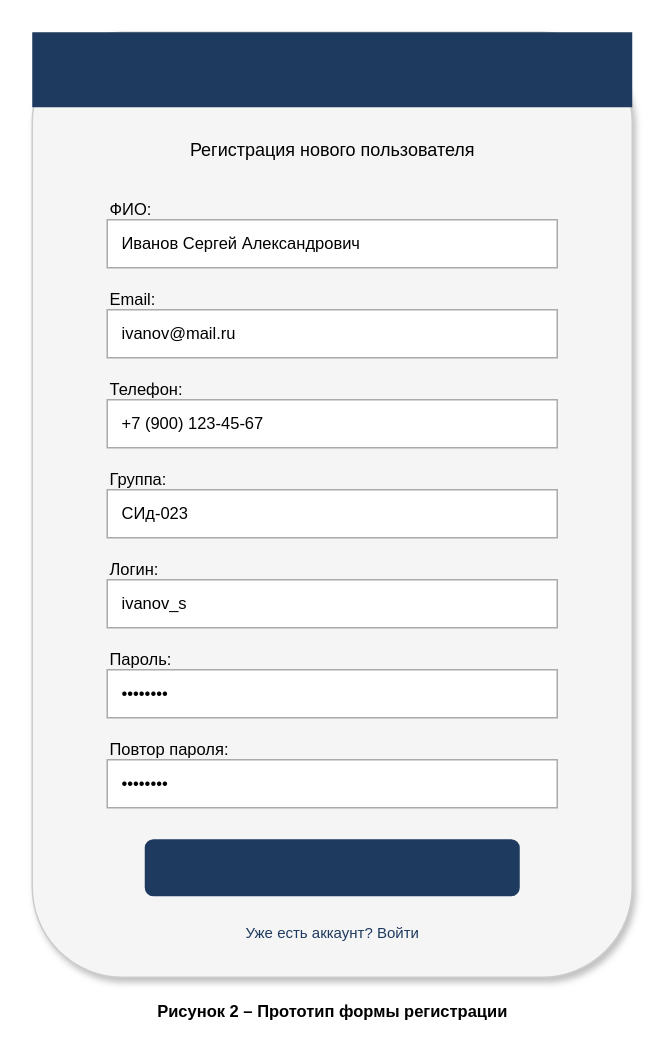
The diagram is 668 pixels wide and 1064 high, and some of its shapes have lost their labels. The centre of each missing label's shape, as x and y in pixels:
"Зарегистрироваться" belongs at point 331,867.
"ИС Студенческого общежития" belongs at point 332,69.
